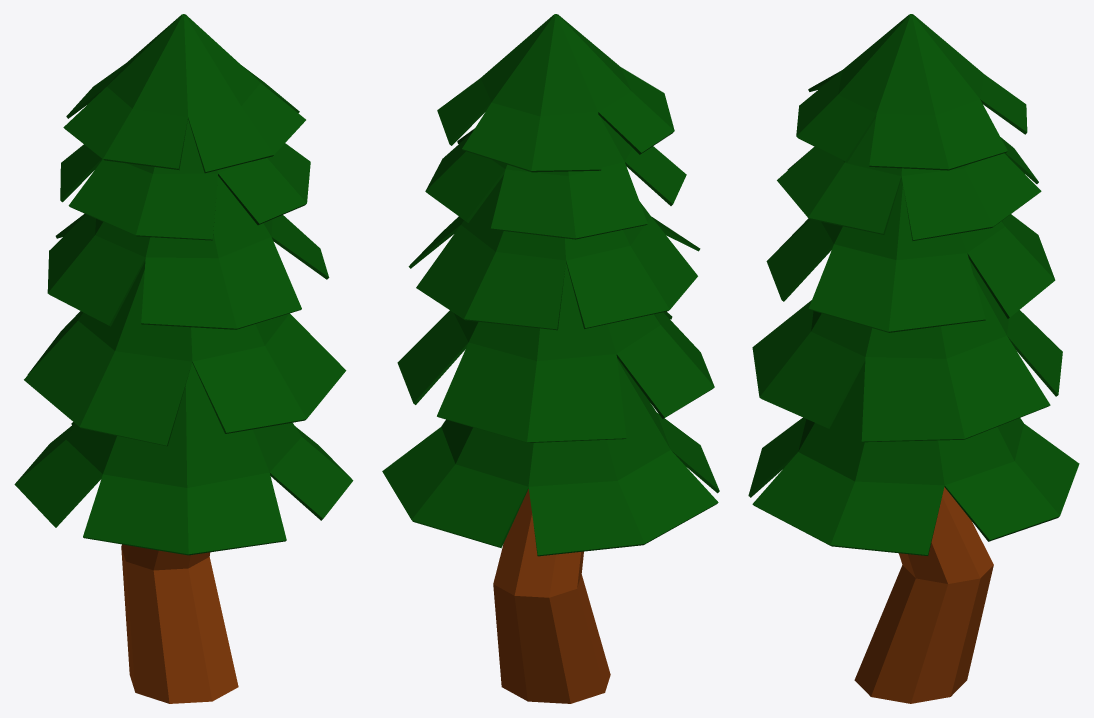
File: Arvore01.fbx
The picture shows the model from 3 angles, left to right: view 1: azimuth 30°, elevation 25°; view 2: azimuth 150°, elevation 25°; view 3: azimuth 270°, elevation 25°; orthographic projection.
Visible parts, largest first — view 1: ramos.001; view 2: ramos.001; view 3: ramos.001.
Part boxes in pixels (box(x1,y1,x2,y2)): ramos.001: box(14, 14, 353, 703); ramos.001: box(382, 14, 719, 703); ramos.001: box(748, 14, 1079, 703).
Size of the model in its own units: 415 by 913 by 412.
